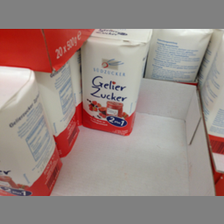sugar: (1, 66, 60, 195), (81, 32, 150, 135), (147, 29, 211, 81)
